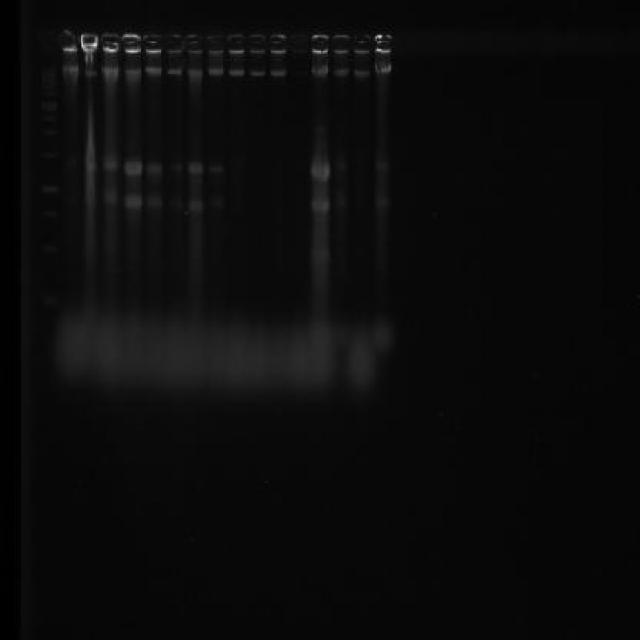B: (306, 157, 332, 180), (306, 196, 334, 216), (122, 156, 144, 178), (184, 196, 207, 215), (144, 158, 164, 178), (122, 192, 144, 210), (144, 192, 164, 210), (102, 189, 121, 206), (208, 192, 225, 211), (185, 161, 204, 176), (206, 162, 226, 176), (372, 196, 392, 210), (102, 156, 118, 172), (374, 160, 392, 174)
L: (31, 24, 398, 78)
M: (32, 64, 65, 318)
P: (37, 243, 59, 254), (38, 100, 58, 112), (38, 183, 58, 194), (37, 208, 57, 218), (42, 126, 58, 136), (41, 113, 58, 122), (40, 150, 58, 158), (40, 90, 57, 98), (40, 78, 56, 84), (40, 84, 56, 88)
Pc: (100, 30, 122, 55), (56, 29, 78, 53), (78, 30, 98, 55), (122, 32, 142, 54), (352, 32, 372, 54), (205, 33, 224, 56), (143, 32, 162, 54), (184, 33, 203, 55), (227, 33, 246, 55), (268, 32, 287, 54), (310, 34, 330, 54), (288, 34, 308, 54), (164, 33, 182, 55), (248, 34, 266, 54), (332, 34, 350, 54), (374, 33, 392, 53)
